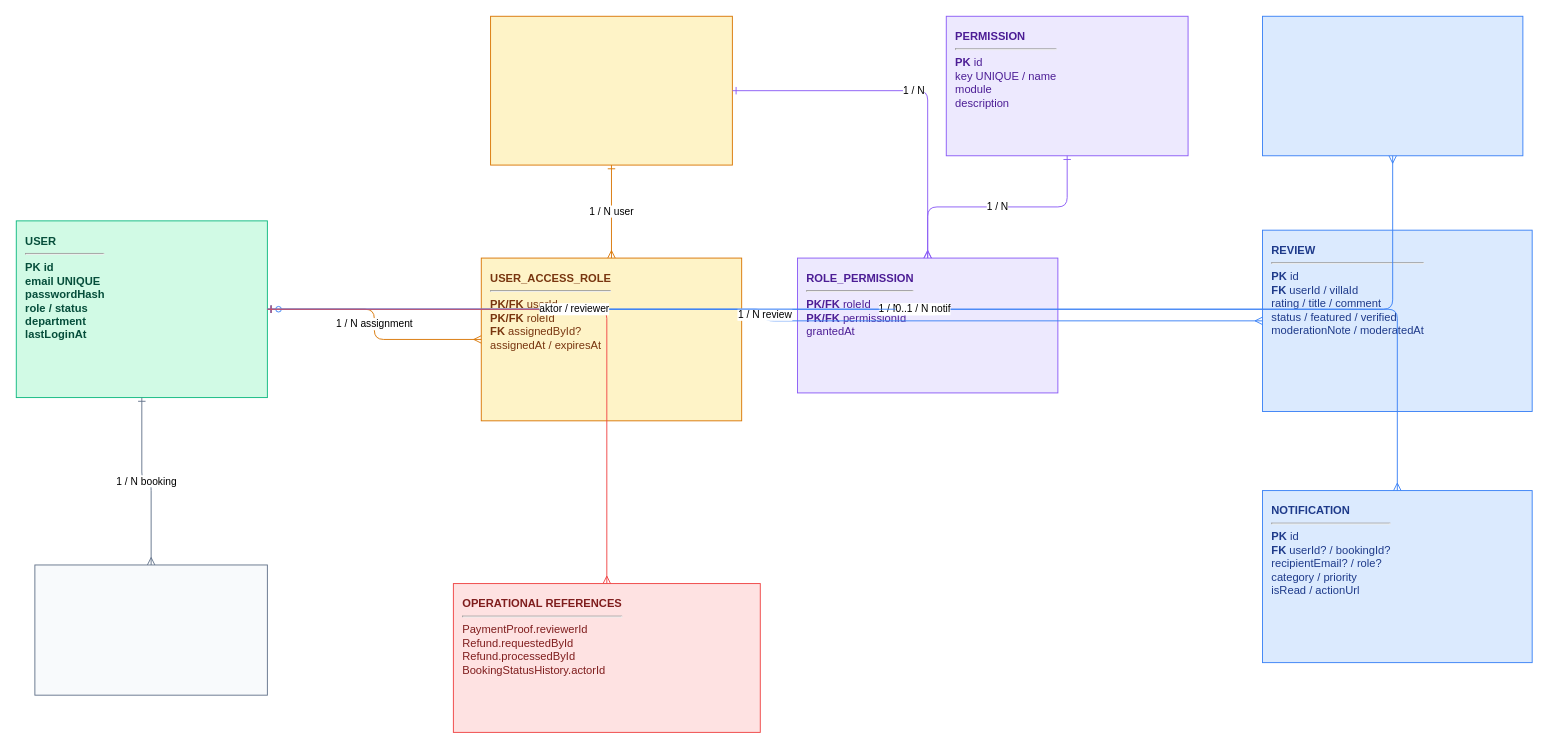
Image size: 1548x749. Some labels were removed from this diagram. The shapes that lost their labels are listed below. From the top down, each one's centre as x and y in pixels, then its label:
point (611, 90): ACCESS_ROLE PK id key UNIQUE / name description isSystem / isActive
point (1392, 85): WISHLIST PK id FK userId / villaId userId + villaId UNIQUE createdAt
point (150, 629): BOOKING FK userId? guest fallback fields status / paymentStatus
